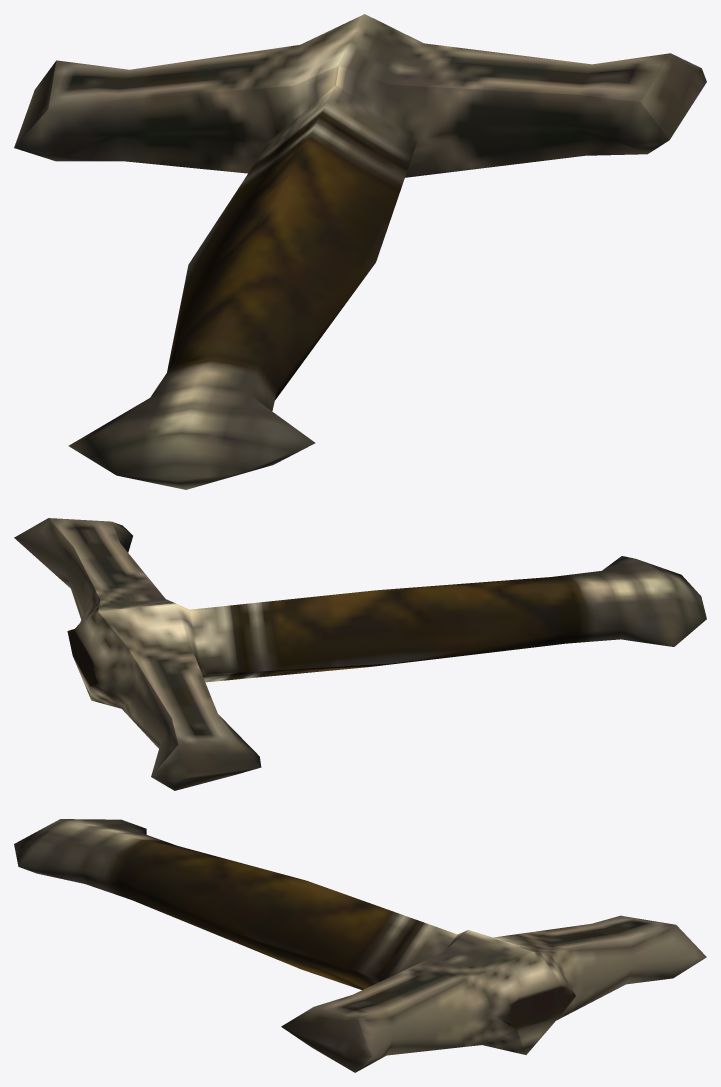
3 views of the same model, one above another, from view 1: azimuth 30°, elevation 25°; view 2: azimuth 150°, elevation 25°; view 3: azimuth 270°, elevation 25° (orthographic). The views are drawn at different scales.
Visible parts, largest first — view 1: sword; view 2: sword; view 3: sword.
Boxes of the visible parts, bbox=[...] form: sword: bbox=[14, 14, 706, 489]; sword: bbox=[14, 518, 706, 790]; sword: bbox=[14, 819, 706, 1072].
Size of the model in its own units: 48.95 by 8.17 by 50.55.
1 material, 1 textured.
